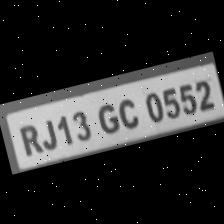0: (137, 85, 166, 124)
1: (48, 108, 75, 147)
2: (189, 73, 217, 112)
3: (64, 103, 94, 143)
5: (171, 76, 198, 116), (156, 80, 182, 120)
C: (112, 90, 142, 130)
G: (88, 96, 120, 136)
J: (34, 112, 58, 150)
R: (12, 116, 43, 156)
